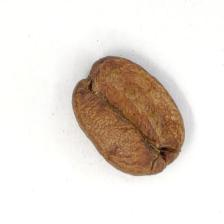NG: (80, 57, 169, 160)
